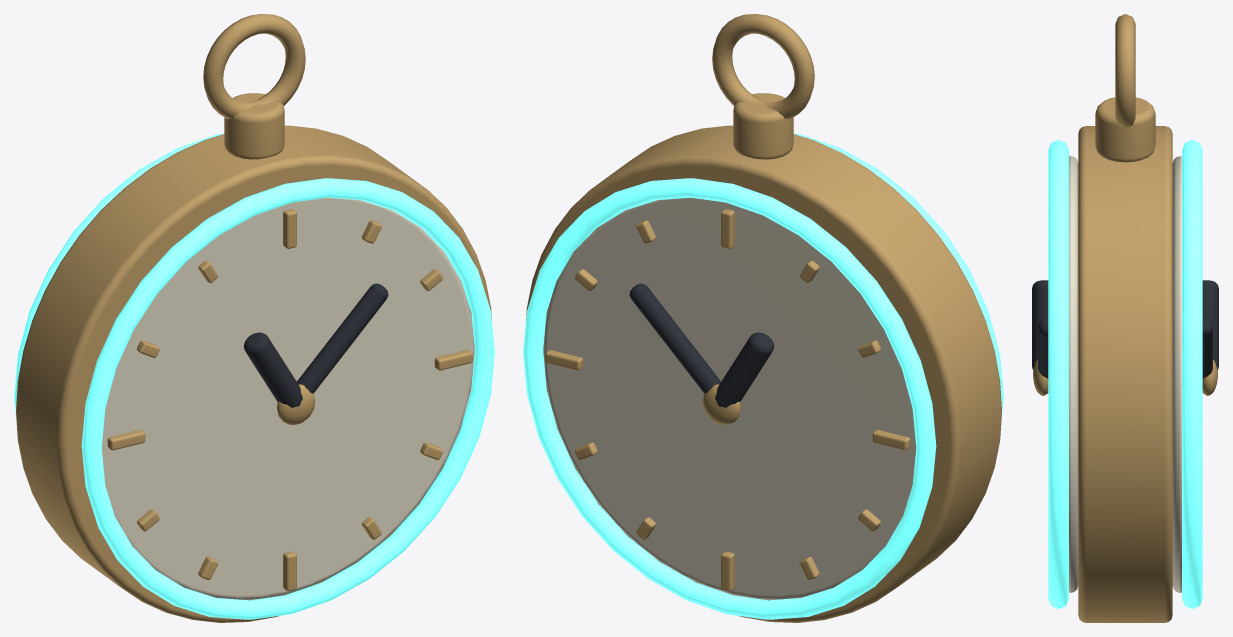
The model's file is relic_hour.glb.
3 renders of one model, left to right at view 1: azimuth 30°, elevation 25°; view 2: azimuth 150°, elevation 25°; view 3: azimuth 270°, elevation 25°, orthographic.
Visible parts, largest first — view 1: relic_hour; view 2: relic_hour; view 3: relic_hour.
Boxes of the visible parts, x1,y1,x2,y2 form: relic_hour: (14, 14, 494, 622); relic_hour: (523, 14, 1003, 622); relic_hour: (1032, 14, 1218, 622).
Size of the model in its own units: 0.58 by 0.747 by 0.218.
